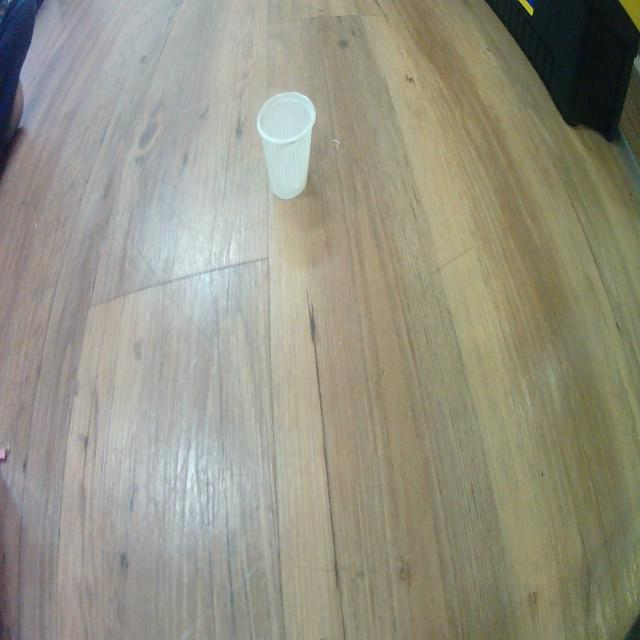planta: (257, 91, 317, 200)
